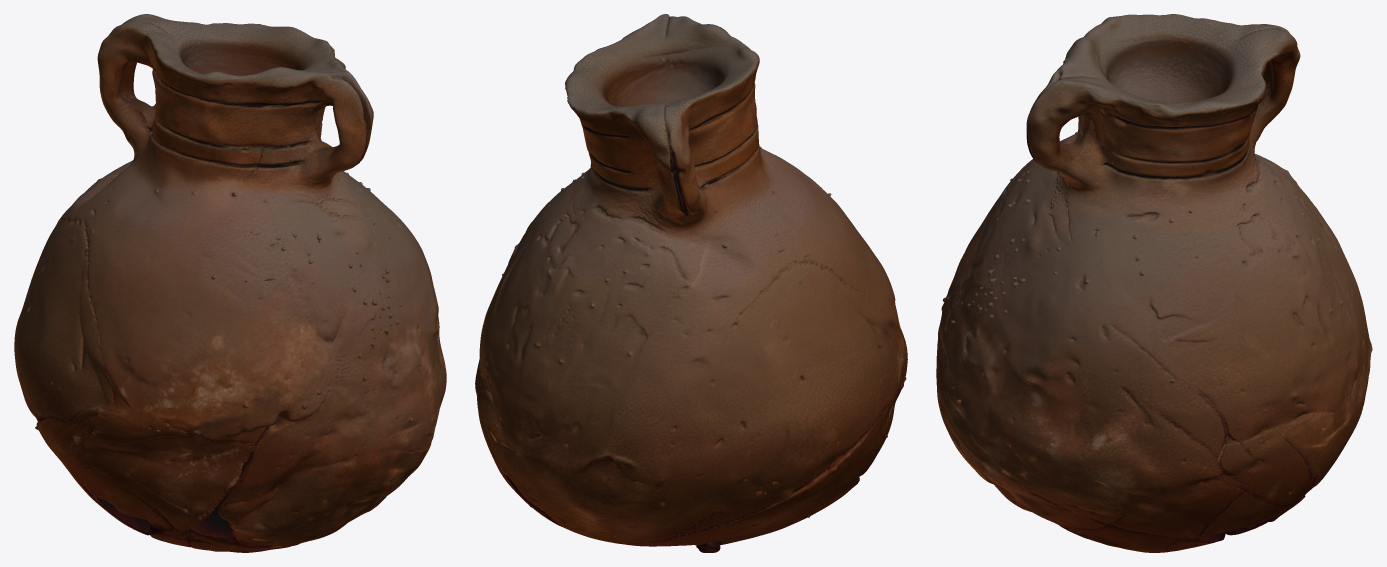
Rendered from jarron-1.glb.
3 views of the same model, side by side, from view 1: azimuth 30°, elevation 25°; view 2: azimuth 150°, elevation 25°; view 3: azimuth 270°, elevation 25° (orthographic).
Visible parts, largest first — view 1: tripo_node_d54af70b-247b-473b-b6d0-e175e9825b30; view 2: tripo_node_d54af70b-247b-473b-b6d0-e175e9825b30; view 3: tripo_node_d54af70b-247b-473b-b6d0-e175e9825b30.
Part boxes in pixels (bbox=[...]): tripo_node_d54af70b-247b-473b-b6d0-e175e9825b30: bbox=[14, 14, 446, 552]; tripo_node_d54af70b-247b-473b-b6d0-e175e9825b30: bbox=[475, 14, 907, 552]; tripo_node_d54af70b-247b-473b-b6d0-e175e9825b30: bbox=[936, 14, 1372, 552].
Size of the model in its own units: 0.8072 by 0.9792 by 0.8054.
1 material, 1 textured.
